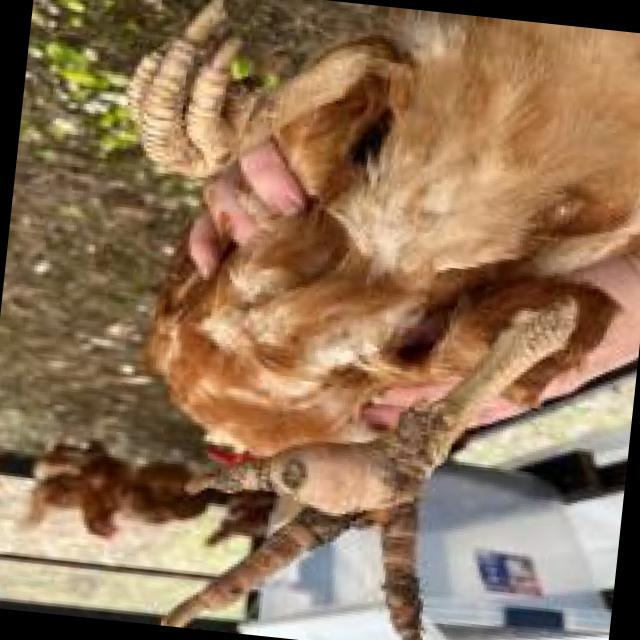Bumble foot: (234, 388, 452, 534)
